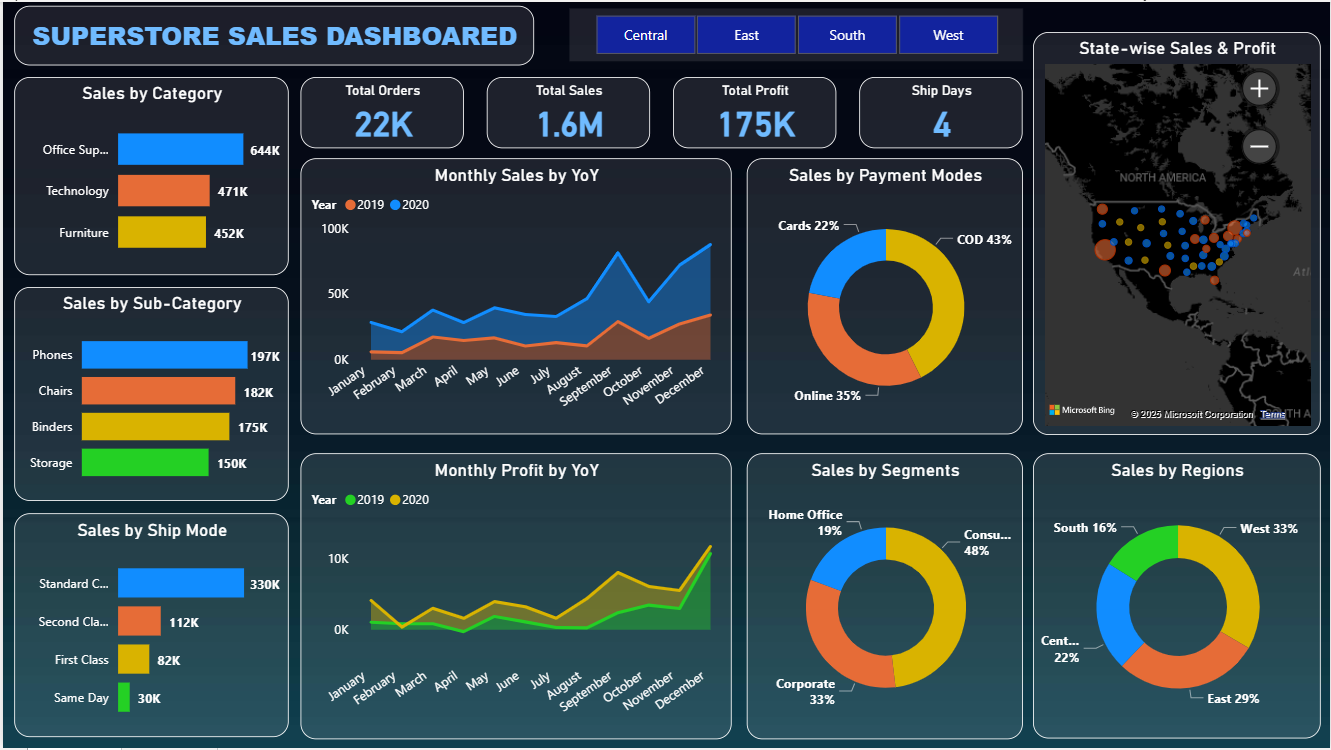

The page's visual inventory and layout, read from the dashboard file:
{"tool":"powerbi","page":{"name":"Page 1","canvas":[1280,720],"ordinal":0},"visuals":[{"type":"clusteredBarChart","title":"Sales by Category","fields":{"Category":["SuperStore_Sales_Dataset.Category"],"Y":["Sum(SuperStore_Sales_Dataset.Sales)"]},"box":[11.2,72.5,265,191.2],"z":0},{"type":"clusteredBarChart","title":"Sales by Sub-Category","fields":{"Category":["SuperStore_Sales_Dataset.Sub-Category"],"Y":["Sum(SuperStore_Sales_Dataset.Sales)"]},"box":[11.2,275,265,206.2],"z":1000},{"type":"clusteredBarChart","title":"Sales by Ship Mode","fields":{"Y":["Sum(SuperStore_Sales_Dataset.Sales)"],"Category":["SuperStore_Sales_Dataset.Ship Mode"]},"box":[11.2,493.8,265,216.2],"z":2000},{"type":"stackedAreaChart","title":"Monthly Sales by YoY","fields":{"Y":["Sum(SuperStore_Sales_Dataset.Sales)"],"Category":["SuperStore_Sales_Dataset.Order Date.Variation.Date Hierarchy.Month","SuperStore_Sales_Dataset.Order Date.Variation.Date Hierarchy.Day"],"Series":["SuperStore_Sales_Dataset.Order Date.Variation.Date Hierarchy.Year"]},"box":[287.5,151.2,416.2,266.2],"z":3000},{"type":"stackedAreaChart","title":"Monthly Profit by YoY","fields":{"Y":["Sum(SuperStore_Sales_Dataset.Profit)"],"Series":["SuperStore_Sales_Dataset.Order Date.Variation.Date Hierarchy.Year"],"Category":["SuperStore_Sales_Dataset.Order Date.Variation.Date Hierarchy.Month","SuperStore_Sales_Dataset.Order Date.Variation.Date Hierarchy.Day"]},"box":[287.5,435,416.2,276.2],"z":4000},{"type":"map","title":"State-wise Sales & Profit","fields":{"Category":["SuperStore_Sales_Dataset.State"],"Size":["Sum(SuperStore_Sales_Dataset.Sales)"]},"box":[993.8,28.8,277.5,388.8],"z":5000},{"type":"donutChart","title":"Sales by Payment Modes","fields":{"Y":["Sum(SuperStore_Sales_Dataset.Sales)"],"Category":["SuperStore_Sales_Dataset.Payment Mode"]},"box":[717.5,151.2,266.2,266.2],"z":6000},{"type":"donutChart","title":"Sales by Segments","fields":{"Y":["Sum(SuperStore_Sales_Dataset.Sales)"],"Category":["SuperStore_Sales_Dataset.Segment","SuperStore_Sales_Dataset.Payment Mode"]},"box":[717.5,435,266.2,276.2],"z":7000},{"type":"donutChart","title":"Sales by Regions","fields":{"Y":["Sum(SuperStore_Sales_Dataset.Sales)"],"Category":["SuperStore_Sales_Dataset.Region"]},"box":[993.8,435,277.5,275],"z":8000},{"type":"textbox","box":[11.2,3.8,501.2,57.5],"z":9000},{"type":"card","title":"Total Orders","fields":{"Values":["Sum(SuperStore_Sales_Dataset.Quantity)"]},"box":[287.5,72.5,157.5,68.8],"z":10000},{"type":"card","title":"Total Sales","fields":{"Values":["Sum(SuperStore_Sales_Dataset.Sales)"]},"box":[467.1,72.5,157.5,68.8],"z":11000},{"type":"card","title":"Total Profit","fields":{"Values":["Sum(SuperStore_Sales_Dataset.Profit)"]},"box":[646.7,72.5,157.5,68.8],"z":12000},{"type":"card","title":"Ship Days","fields":{"Values":["Avg(SuperStore_Sales_Dataset.AvgDelivery)"]},"box":[826.3,72.5,157.5,68.8],"z":13000},{"type":"slicer","fields":{"Values":["SuperStore_Sales_Dataset.Region"]},"box":[546.2,6.2,437.5,51.2],"z":14000}]}

Visuals, with their boxes in screenshot pixels (x1, y1, x2, y2), scaled from the page's 1280x720 canvas onto the 1331x750 screenshot:
"Sales by Category" clusteredBarChart: [x1=12, y1=76, x2=287, y2=275]
"Sales by Sub-Category" clusteredBarChart: [x1=12, y1=286, x2=287, y2=501]
"Sales by Ship Mode" clusteredBarChart: [x1=12, y1=514, x2=287, y2=740]
"Monthly Sales by YoY" stackedAreaChart: [x1=299, y1=158, x2=732, y2=435]
"Monthly Profit by YoY" stackedAreaChart: [x1=299, y1=453, x2=732, y2=741]
"State-wise Sales & Profit" map: [x1=1033, y1=30, x2=1322, y2=435]
"Sales by Payment Modes" donutChart: [x1=746, y1=158, x2=1023, y2=435]
"Sales by Segments" donutChart: [x1=746, y1=453, x2=1023, y2=741]
"Sales by Regions" donutChart: [x1=1033, y1=453, x2=1322, y2=740]
textbox: [x1=12, y1=4, x2=533, y2=64]
"Total Orders" card: [x1=299, y1=76, x2=463, y2=147]
"Total Sales" card: [x1=486, y1=76, x2=649, y2=147]
"Total Profit" card: [x1=672, y1=76, x2=836, y2=147]
"Ship Days" card: [x1=859, y1=76, x2=1023, y2=147]
slicer - SuperStore_Sales_Dataset.Region: [x1=568, y1=6, x2=1023, y2=60]
